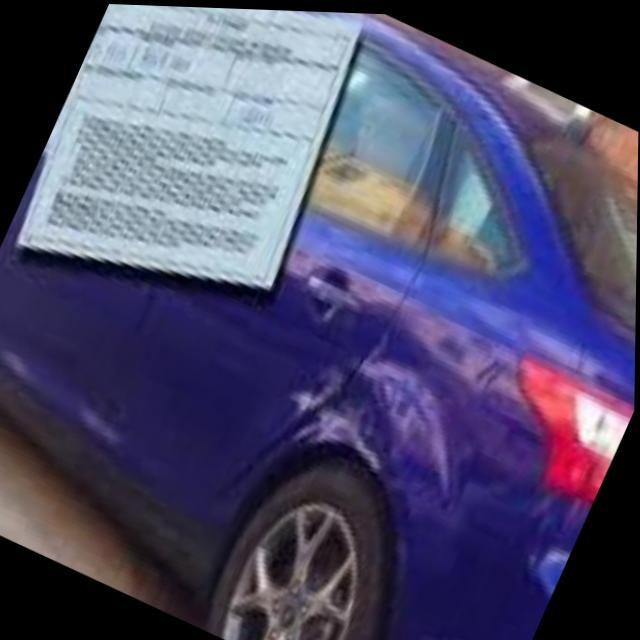dent: (292, 330, 534, 488)
